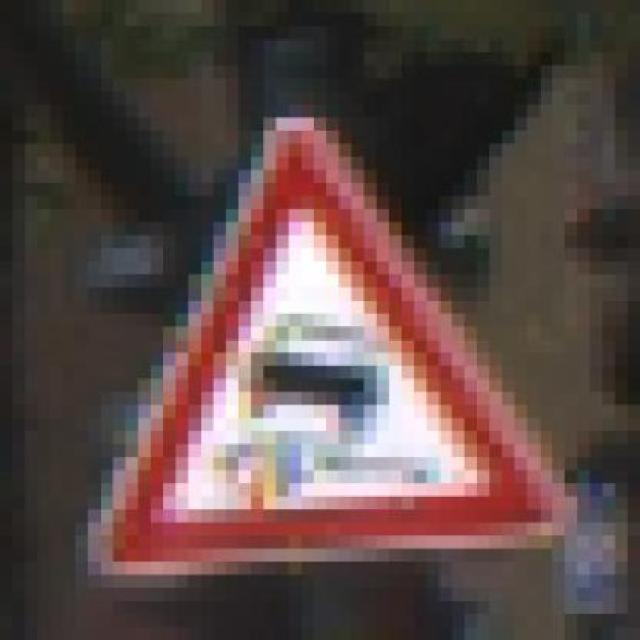Slippery Road Ahead: (75, 105, 590, 588)
